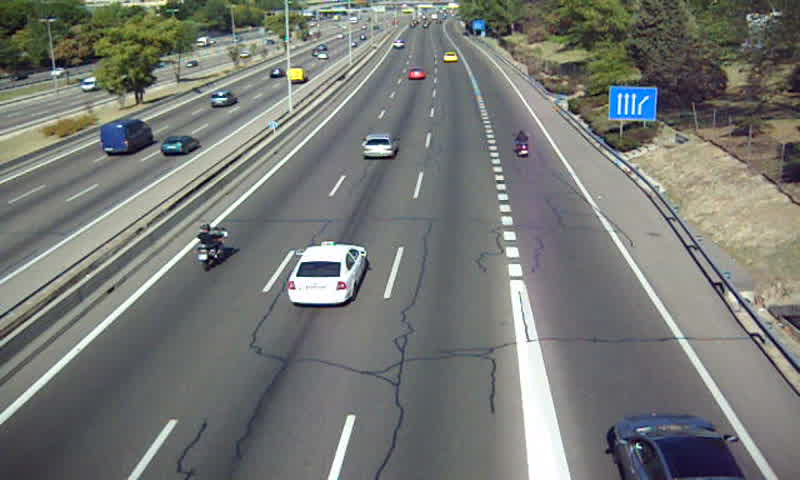car: (287, 244, 366, 305), (361, 134, 399, 160), (409, 66, 427, 82), (443, 51, 460, 62)
motorcycle: (196, 223, 230, 273), (513, 129, 530, 157)
